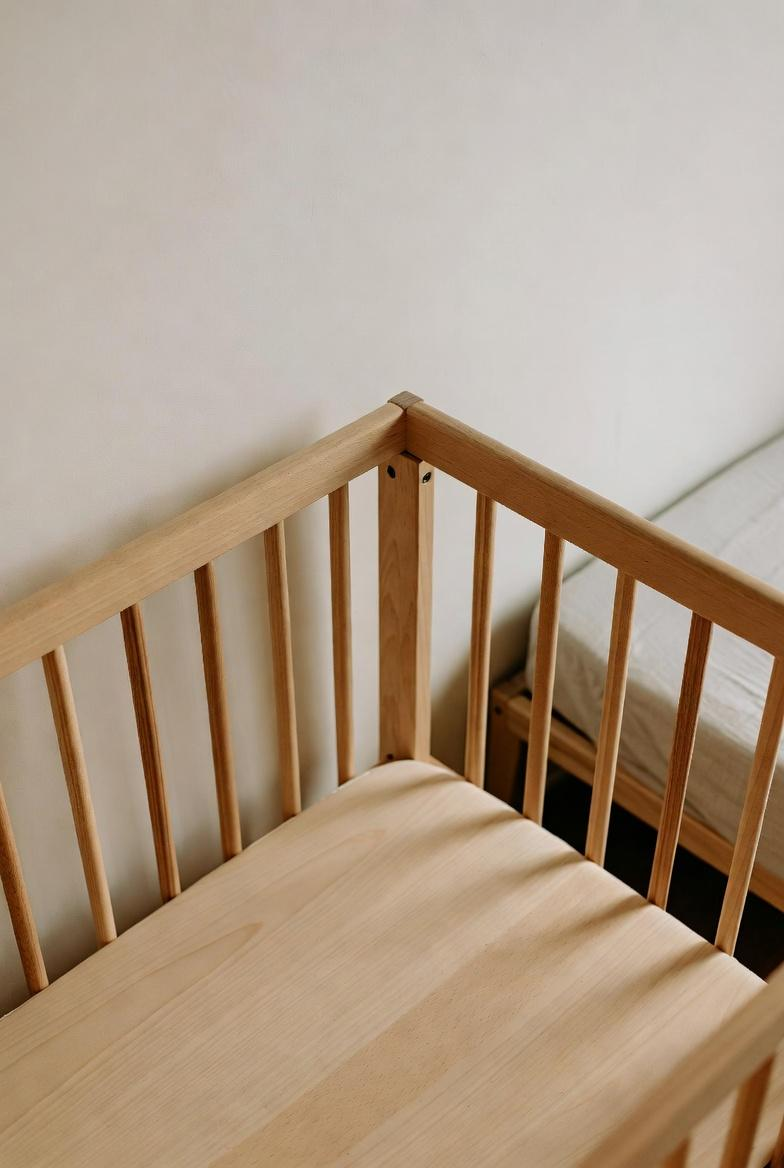crib: (0, 394, 784, 1168)
